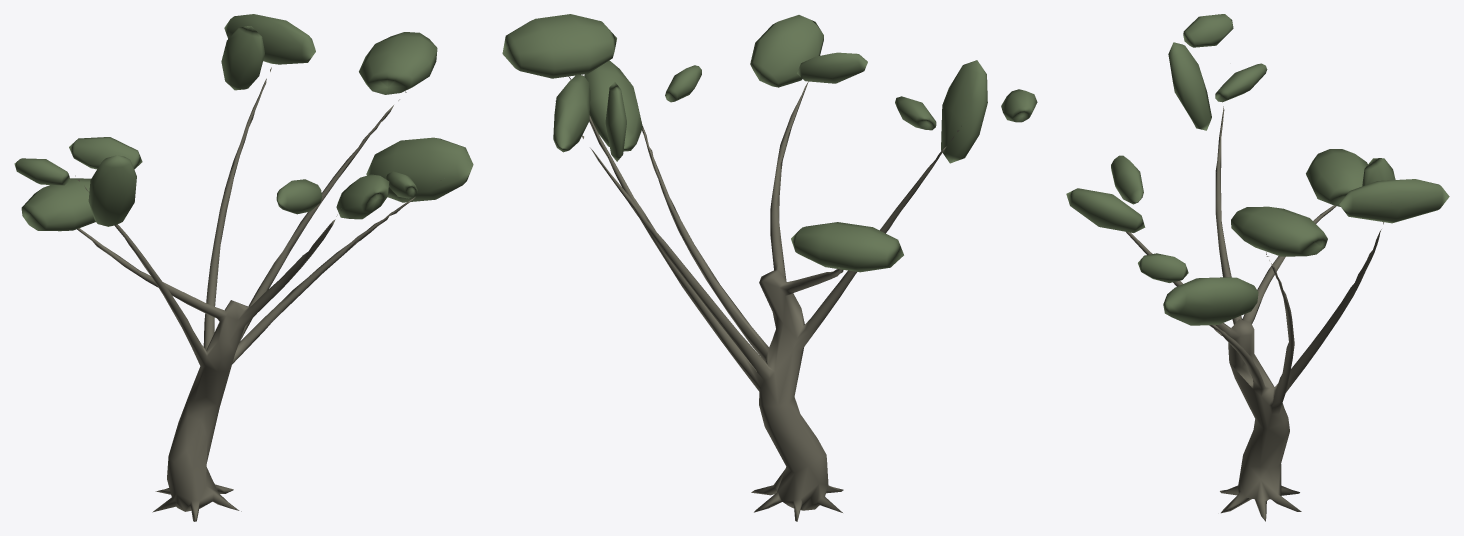
The model's file is Oleastre_2_Niveau2.fbx.
3 views of the same model, side by side, from view 1: azimuth 30°, elevation 25°; view 2: azimuth 150°, elevation 25°; view 3: azimuth 270°, elevation 25° (orthographic). The views are drawn at different scales.
Visible parts, largest first — view 1: Oleastre_2_Niveau2_Jeu; view 2: Oleastre_2_Niveau2_Jeu; view 3: Oleastre_2_Niveau2_Jeu.
Part boxes in pixels (x1,y1,x2,y2): Oleastre_2_Niveau2_Jeu: [14, 14, 473, 521]; Oleastre_2_Niveau2_Jeu: [502, 14, 1037, 521]; Oleastre_2_Niveau2_Jeu: [1066, 14, 1449, 521].
Size of the model in its own units: 363 by 316 by 272.
